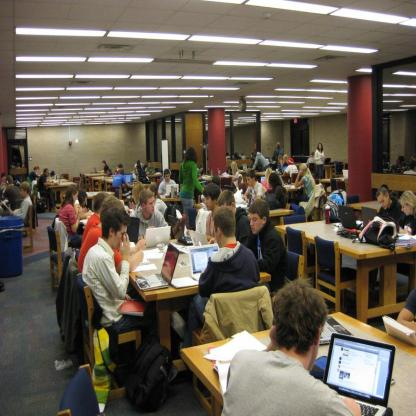board: (317, 325, 396, 416), (286, 278, 354, 344), (135, 244, 179, 290), (188, 243, 219, 282), (168, 216, 193, 245), (338, 204, 361, 228), (146, 226, 170, 248), (127, 217, 140, 245), (362, 206, 378, 228), (189, 232, 209, 246), (165, 183, 178, 195), (280, 177, 291, 188), (123, 174, 133, 186), (147, 166, 155, 174), (242, 164, 248, 171), (324, 158, 330, 165), (94, 167, 100, 173), (58, 178, 60, 184)
